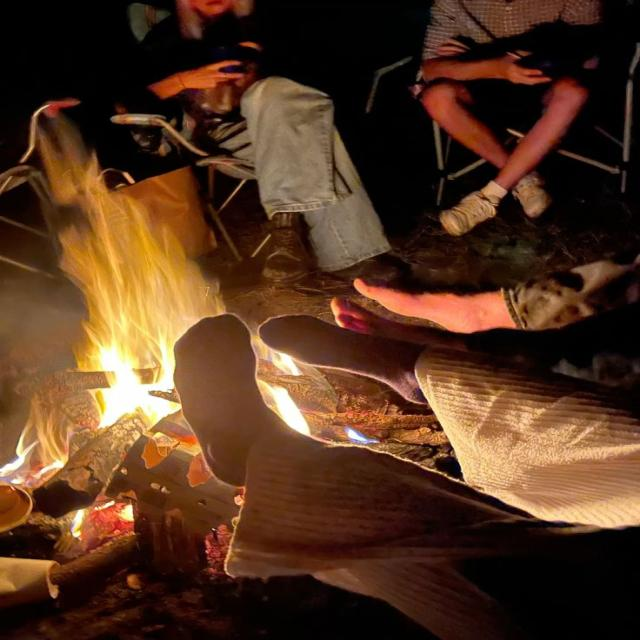fire: (88, 336, 176, 422), (0, 418, 68, 485), (255, 374, 312, 438), (68, 499, 134, 539)
